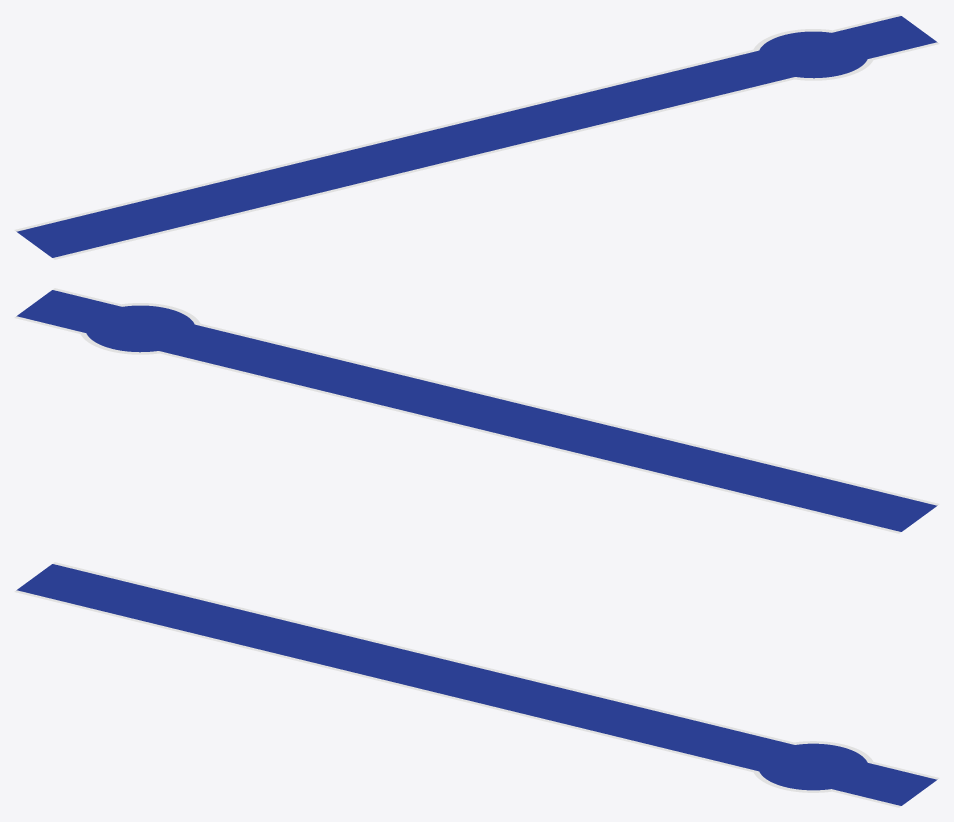
File: game2.fbx
3 views of the same model, one above another, from view 1: azimuth 30°, elevation 25°; view 2: azimuth 150°, elevation 25°; view 3: azimuth 330°, elevation 25° (orthographic).
Parts seen in each view (by area): view 1: Plane, Disc; view 2: Plane, Disc; view 3: Plane, Disc.
Part boxes in pixels (left/top/right/bottom): Plane: left=14, top=14, right=939, bottom=259; Disc: left=753, top=29, right=873, bottom=80; Plane: left=14, top=288, right=939, bottom=533; Disc: left=80, top=303, right=200, bottom=354; Plane: left=14, top=562, right=939, bottom=807; Disc: left=753, top=741, right=873, bottom=792.
Size of the model in its own units: 25000 by 1.5 by 3000.
